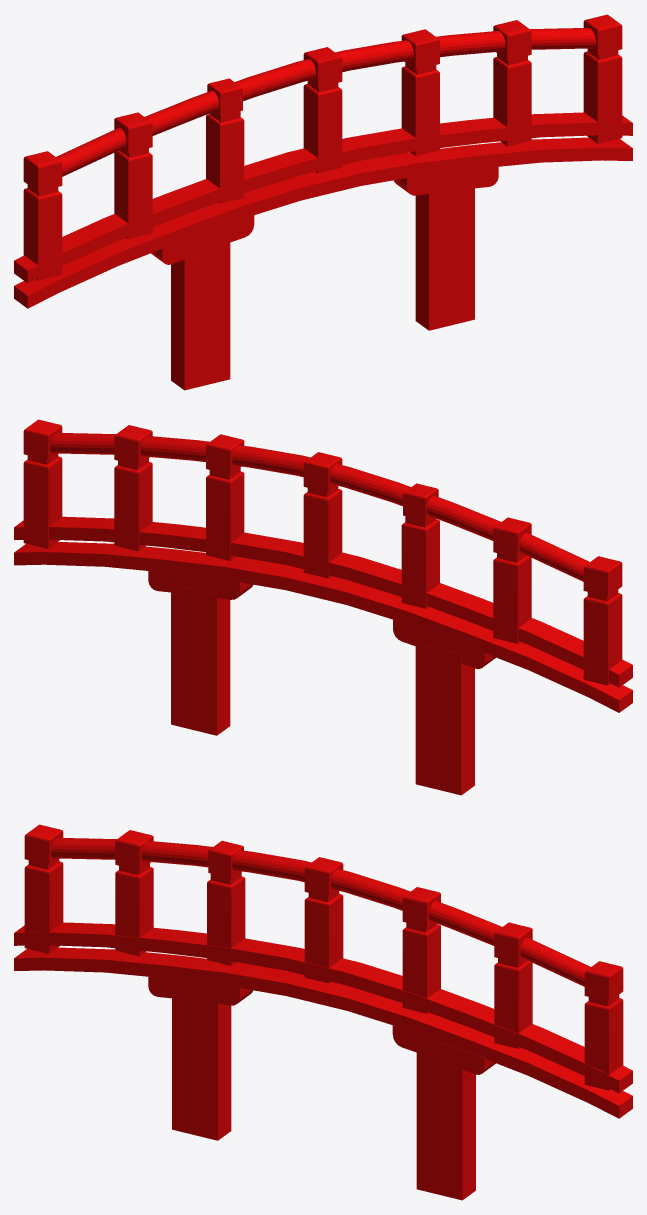
The model's file is Hashi_hidari.fbx.
The picture shows the model from 3 angles, top to bottom: view 1: azimuth 30°, elevation 25°; view 2: azimuth 150°, elevation 25°; view 3: azimuth 330°, elevation 25°; orthographic projection.
Visible parts, largest first — view 1: polySurface9; view 2: polySurface9; view 3: polySurface9.
Boxes of the visible parts, x1,y1,x2,y2 form: polySurface9: (14, 14, 632, 390); polySurface9: (14, 419, 632, 795); polySurface9: (14, 824, 632, 1200).
Bounding box in the file's own units: 990 × 463 × 41.5.
